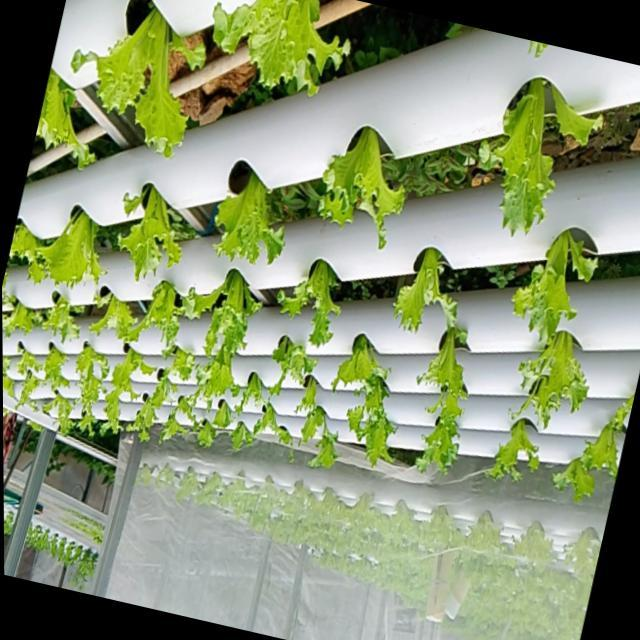Baby: (66, 10, 200, 158), (207, 0, 343, 95), (473, 77, 546, 233), (313, 124, 400, 246), (505, 227, 589, 339), (412, 314, 462, 468), (210, 158, 279, 260), (509, 327, 580, 423), (113, 181, 179, 277), (113, 277, 190, 349), (273, 256, 336, 343), (34, 207, 100, 289), (389, 244, 451, 329), (343, 373, 390, 462), (571, 402, 621, 475), (251, 332, 311, 391), (326, 330, 384, 386), (480, 414, 532, 475), (70, 340, 104, 427), (190, 342, 235, 403), (37, 392, 69, 432), (37, 345, 62, 389), (164, 345, 190, 379), (11, 369, 35, 405), (167, 392, 191, 421)
